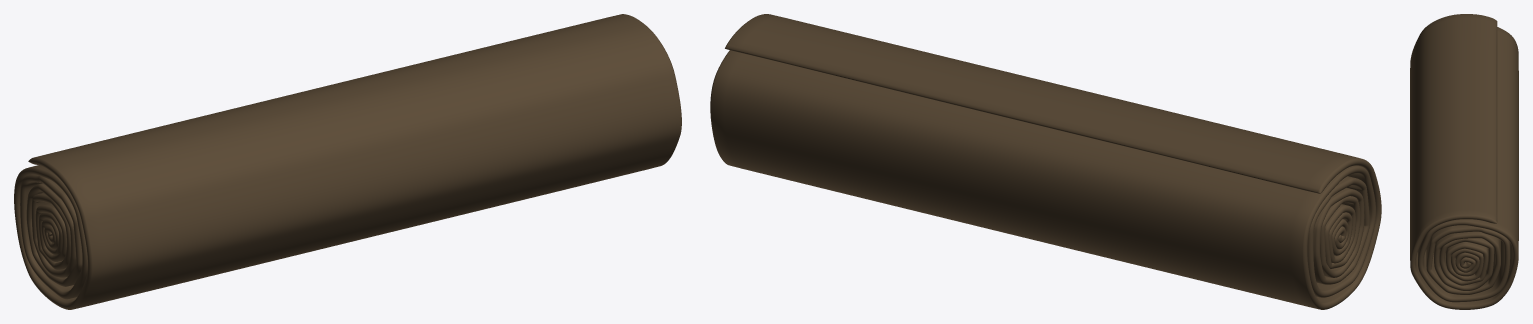
The model's file is Carpet.glb.
3 renders of one model, left to right at view 1: azimuth 30°, elevation 25°; view 2: azimuth 150°, elevation 25°; view 3: azimuth 270°, elevation 25°, orthographic. The views are drawn at different scales.
Parts seen in each view (by area): view 1: BezierCurve; view 2: BezierCurve; view 3: BezierCurve.
Part boxes in pixels (bbox=[...]): BezierCurve: bbox=[14, 14, 681, 309]; BezierCurve: bbox=[710, 14, 1381, 309]; BezierCurve: bbox=[1410, 14, 1518, 309].
Bounding box in the file's own units: 0.8969 × 0.1979 × 0.204.
